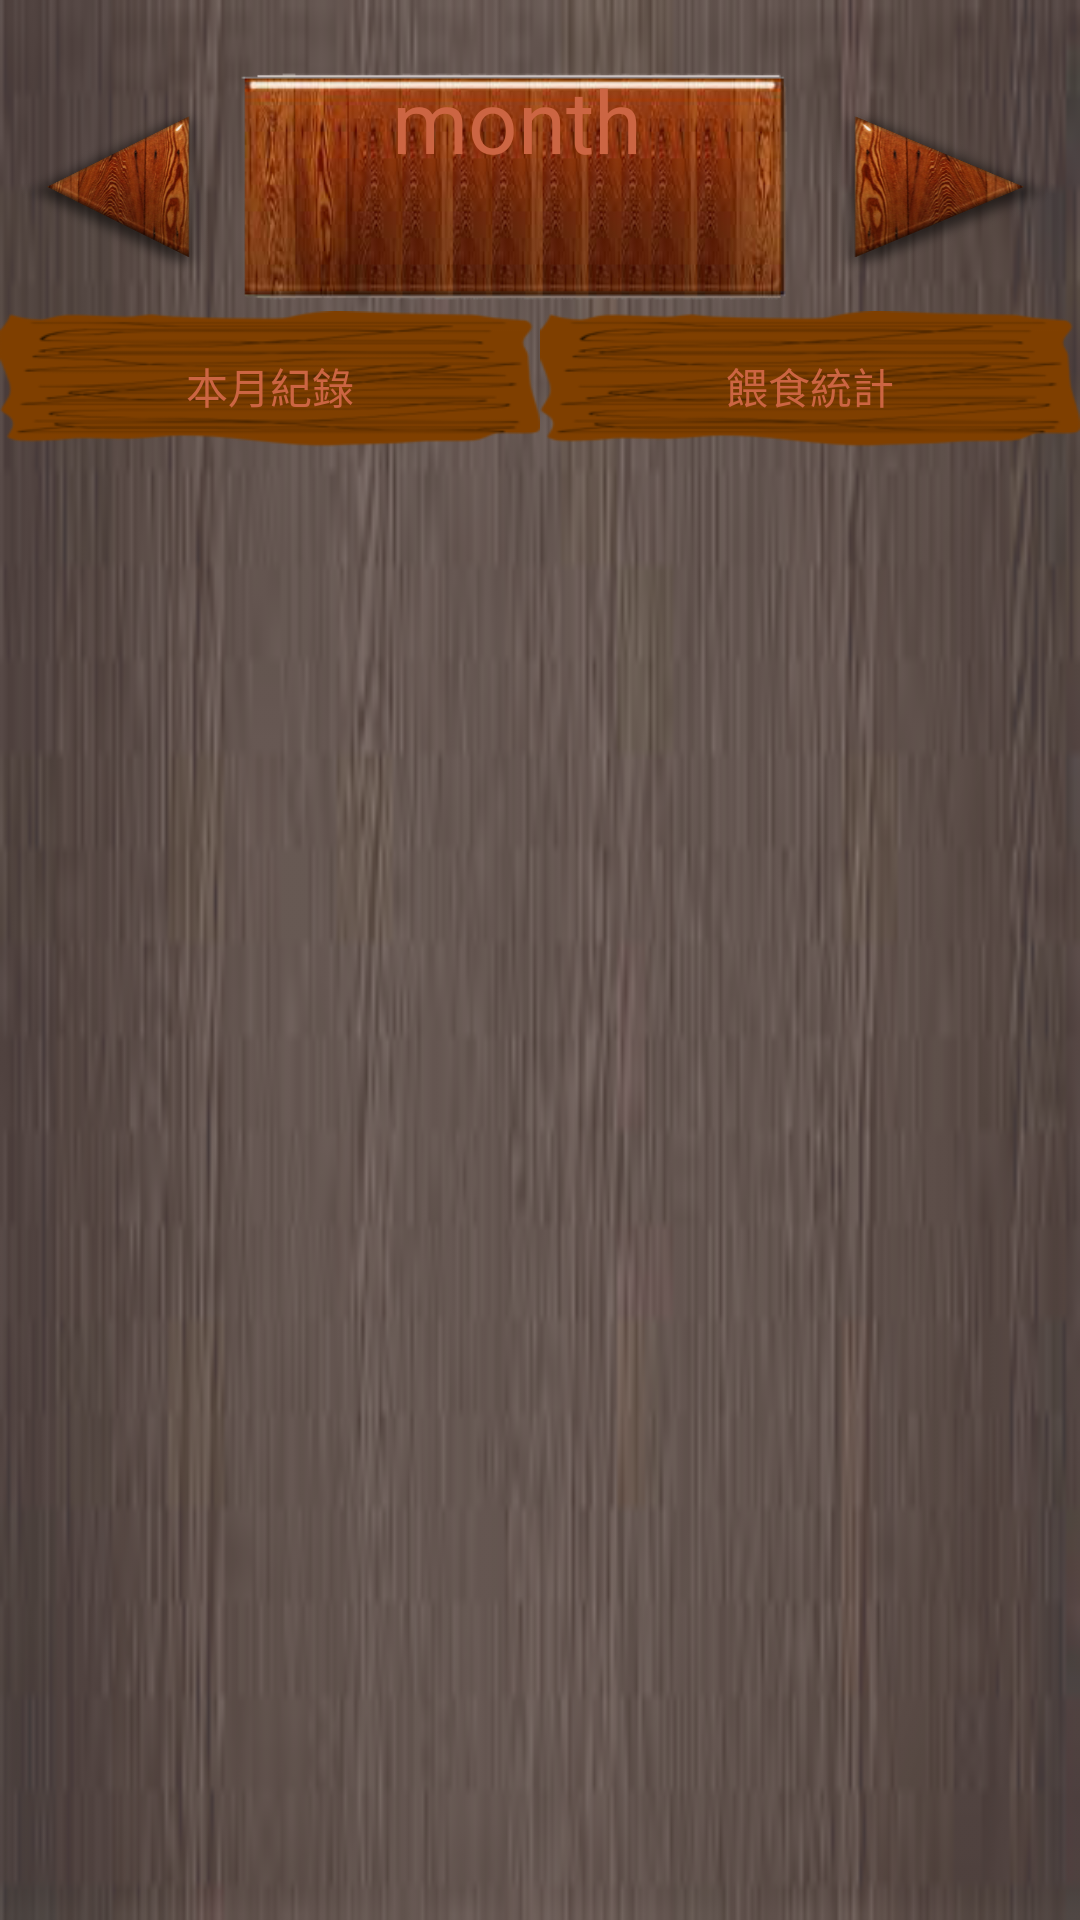

Point at icon controls on the screen. Image size 1080 × 1920, points as point (x, y).
left: point (117, 186)
right: point (942, 186)
